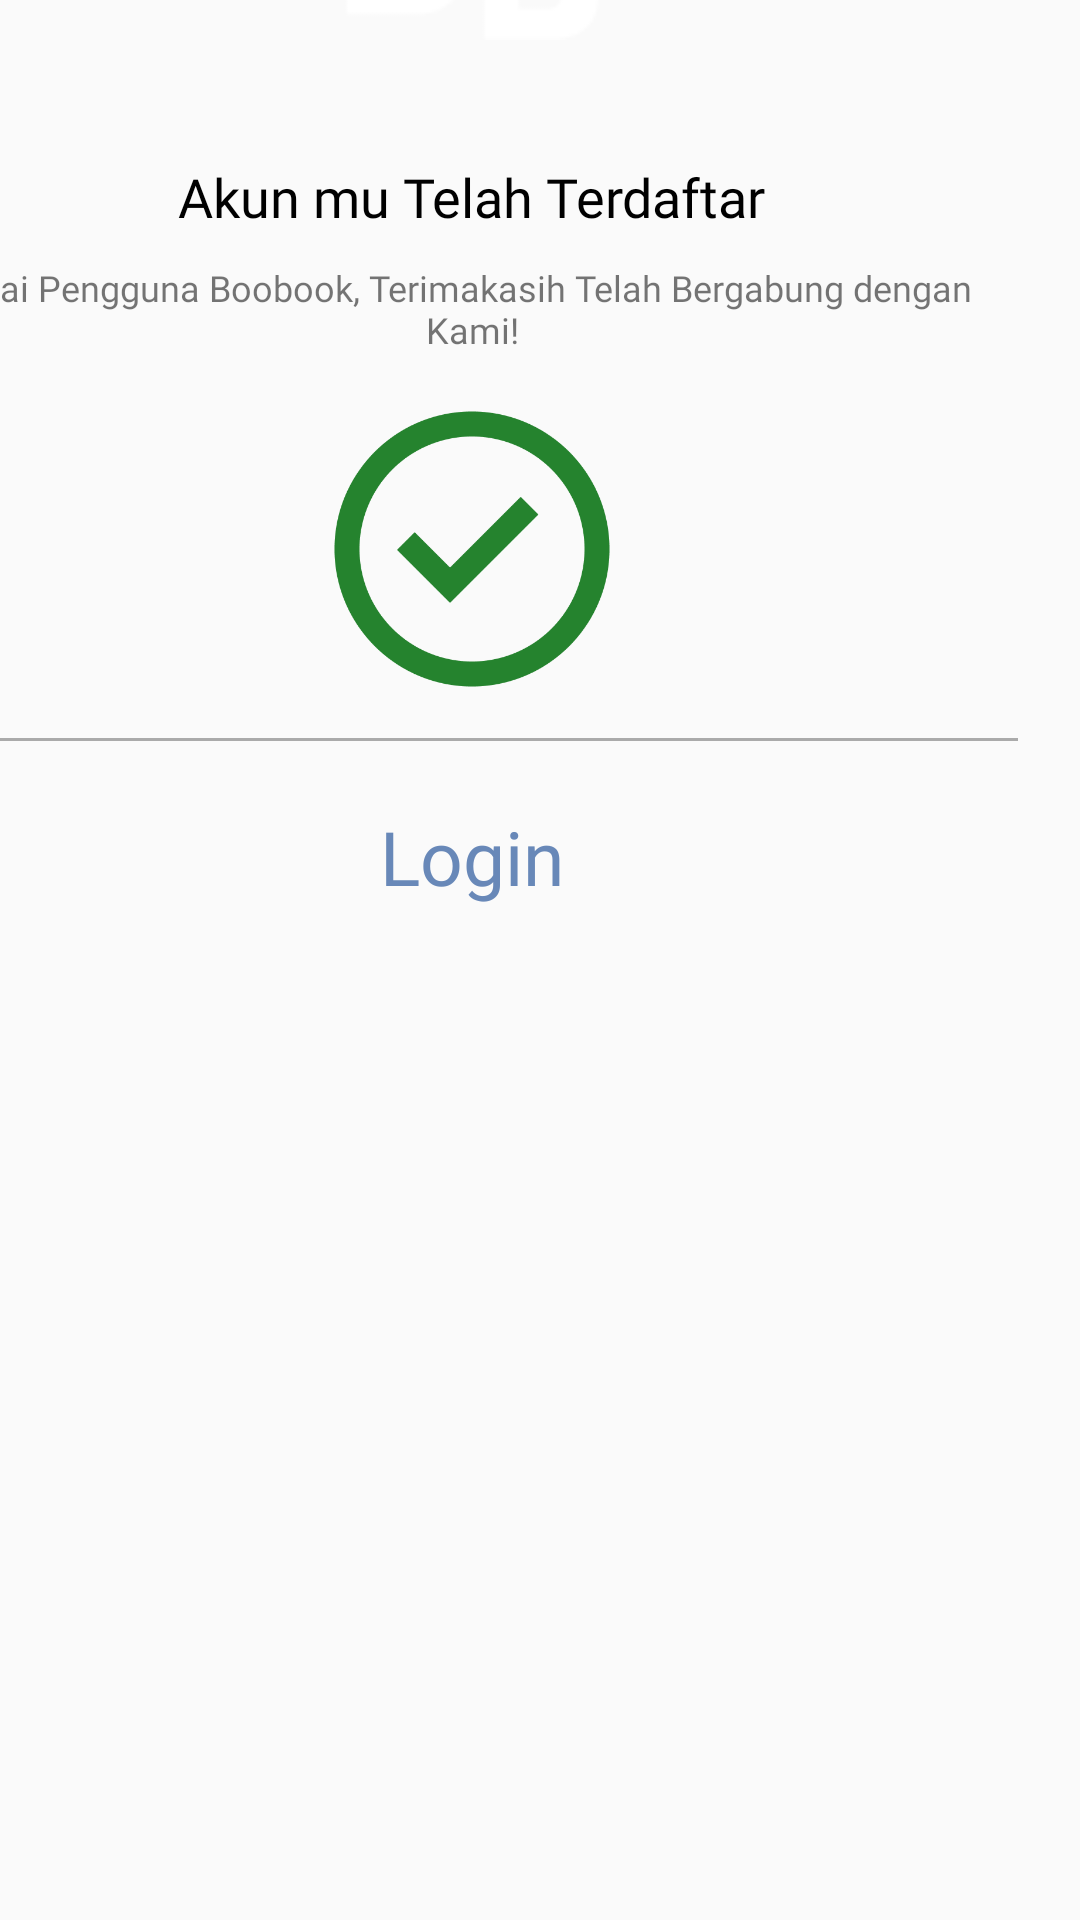

Icon bounding boxes for this 1080 × 1920 phone screenshot, format (x1, y1, x2, y2):
greencheck: (334, 411, 610, 687)
